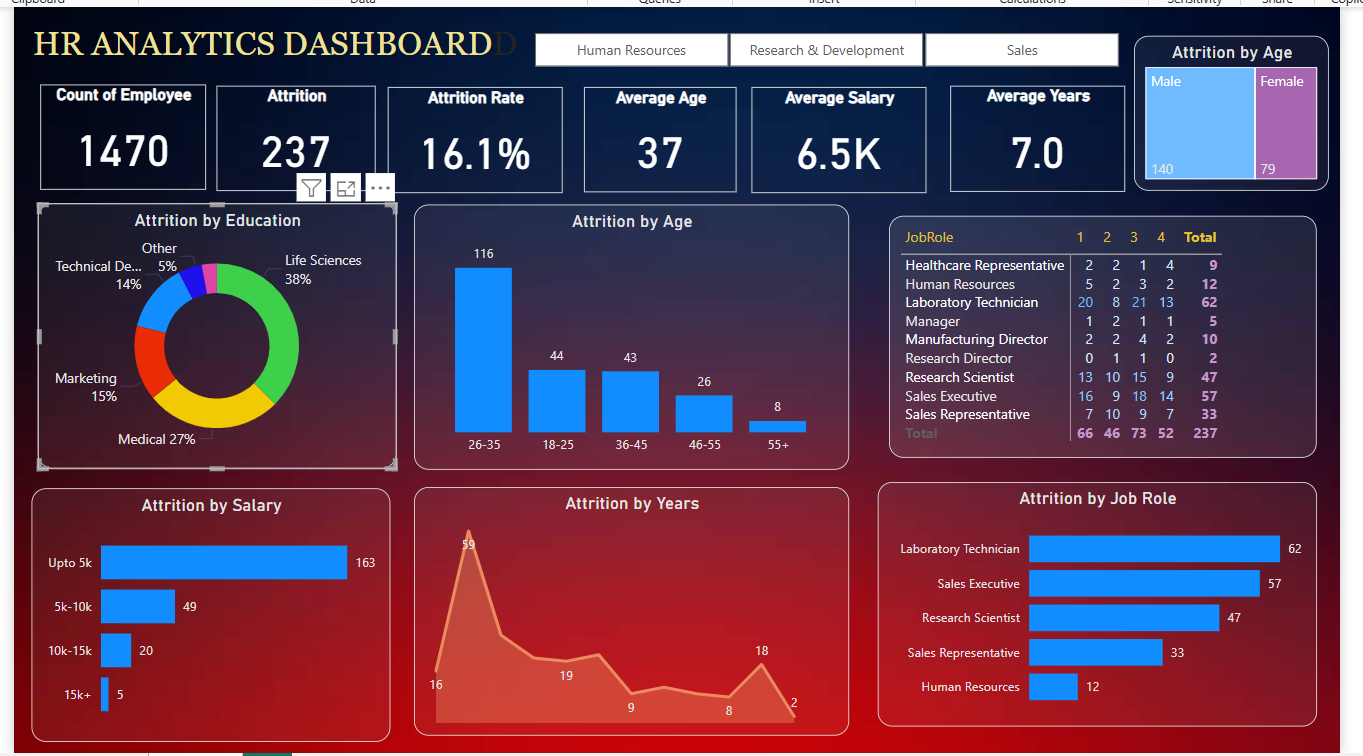

Layout of this report page (visuals, bound fields, positions):
{"tool":"powerbi","page":{"name":"Page 1","canvas":[1280,720],"ordinal":0},"visuals":[{"type":"card","title":"Count of Employee","fields":{"Values":["CountNonNull(HR_Analytics.EmpID)"]},"box":[25,74.8,160,101.2],"z":0},{"type":"card","title":"Attrition","fields":{"Values":["Sum(HR_Analytics.AttritionCount)"]},"box":[195.8,75.7,153.8,101.2],"z":1000},{"type":"card","title":"Attrition Rate","fields":{"Values":["HR_Analytics.AttritionRate"]},"box":[361.2,77.8,168.8,102.5],"z":2000},{"type":"card","title":"Average Age","fields":{"Values":["Avg(HR_Analytics.Age)"]},"box":[550,77.7,147.5,101.2],"z":3000},{"type":"card","title":"Average Years","fields":{"Values":["Avg(HR_Analytics.YearsAtCompany)"]},"box":[903.5,75.7,168.8,102.5],"z":4000},{"type":"card","title":"Average Salary","fields":{"Values":["Avg(HR_Analytics.MonthlyIncome)"]},"box":[712.3,77.7,168.8,102.5],"z":5000},{"type":"donutChart","title":"Attrition by Education","fields":{"Category":["HR_Analytics.EducationField"],"Y":["Sum(HR_Analytics.AttritionCount)"]},"box":[23,189.7,346.2,256.2],"z":6000},{"type":"columnChart","title":"Attrition by Age","fields":{"Category":["HR_Analytics.AgeGroup"],"Y":["Sum(HR_Analytics.AttritionCount)"]},"box":[386.2,190.8,420,256.2],"z":7000},{"type":"pivotTable","fields":{"Rows":["HR_Analytics.JobRole"],"Columns":["HR_Analytics.JobSatisfaction"],"Values":["Sum(HR_Analytics.AttritionCount)"]},"box":[845,201.2,412.5,233.8],"z":8000},{"type":"barChart","title":"Attrition by Age","fields":{"Category":["HR_Analytics.SalarySlab"],"Y":["Sum(HR_Analytics.AttritionCount)"]},"box":[17,464.3,346.2,245],"z":9000},{"type":"barChart","title":"Attrition by Age","fields":{"Category":["HR_Analytics.JobRole"],"Y":["Sum(HR_Analytics.AttritionCount)"]},"box":[833.8,458.8,423.8,236.2],"z":10000},{"type":"areaChart","title":"Attrition by Age","fields":{"Y":["Sum(HR_Analytics.AttritionCount)"],"Category":["HR_Analytics.YearsAtCompany"]},"box":[386.2,463.8,420,240],"z":11000},{"type":"treemap","title":"Attrition by Age","fields":{"Group":["HR_Analytics.Gender"],"Values":["Sum(HR_Analytics.AttritionCount)"]},"box":[1080.5,27.7,188.3,149.8],"z":12000},{"type":"slicer","fields":{"Values":["HR_Analytics.Department"]},"box":[476.5,17.7,613.8,46.2],"z":13000},{"type":"textbox","box":[13.8,12.5,486.2,51.2],"z":14000}]}

Visuals, with their boxes in screenshot pixels (x1, y1, x2, y2):
"Count of Employee" card: <bbox>13, 70, 184, 178</bbox>
"Attrition" card: <bbox>196, 71, 361, 179</bbox>
"Attrition Rate" card: <bbox>374, 73, 555, 183</bbox>
"Average Age" card: <bbox>576, 73, 735, 181</bbox>
"Average Years" card: <bbox>956, 71, 1137, 181</bbox>
"Average Salary" card: <bbox>751, 73, 932, 183</bbox>
"Attrition by Education" donutChart: <bbox>10, 193, 382, 468</bbox>
"Attrition by Age" columnChart: <bbox>400, 194, 851, 469</bbox>
pivotTable - HR_Analytics.JobRole x HR_Analytics.JobSatisfaction: <bbox>893, 205, 1336, 456</bbox>
"Attrition by Age" barChart: <bbox>4, 488, 376, 751</bbox>
"Attrition by Age" barChart: <bbox>881, 482, 1336, 736</bbox>
"Attrition by Age" areaChart: <bbox>400, 487, 851, 745</bbox>
"Attrition by Age" treemap: <bbox>1146, 19, 1348, 180</bbox>
slicer - HR_Analytics.Department: <bbox>497, 8, 1156, 58</bbox>
textbox: <bbox>1, 3, 523, 58</bbox>
